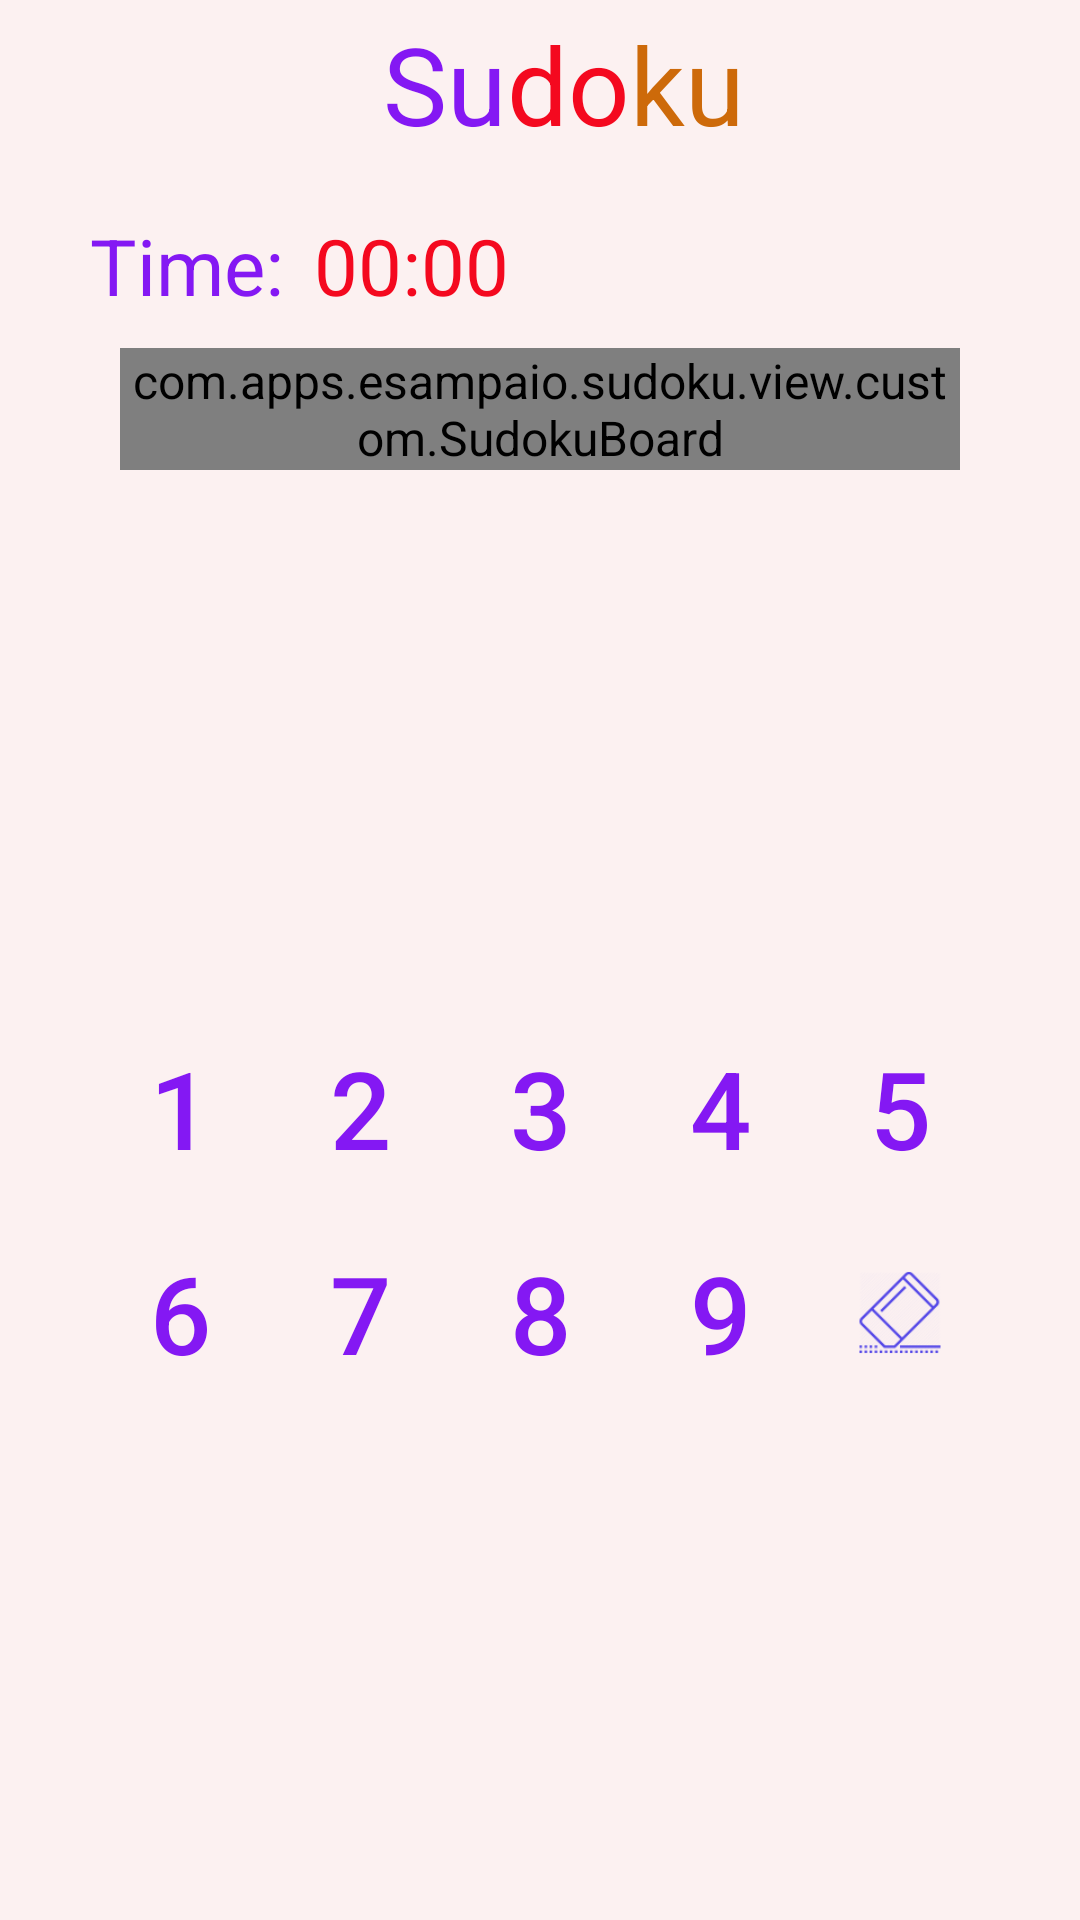

Named icons in this screenshot (1080×1920) and their centers, (x=x, y=y):
eraser: (x=900, y=1312)
